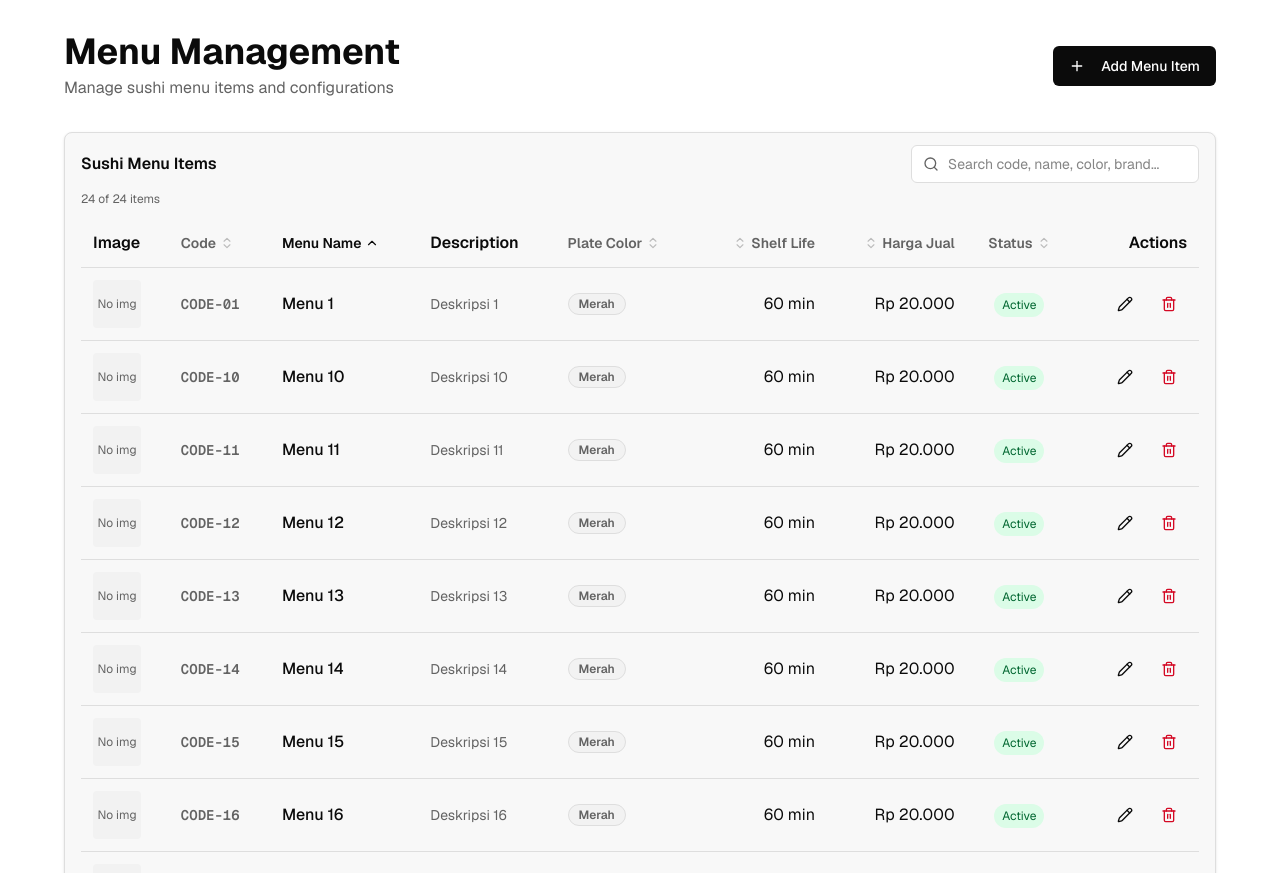
MenusAdmin — search › finds a menu that sits past the first client page
Expected: the text "Menu 20" is not shown
Type "Menu 20" into the field with placeholder "Search code, name, color, brand..." at (1055, 164), box top-left (911, 145), bottom-right (1199, 183)
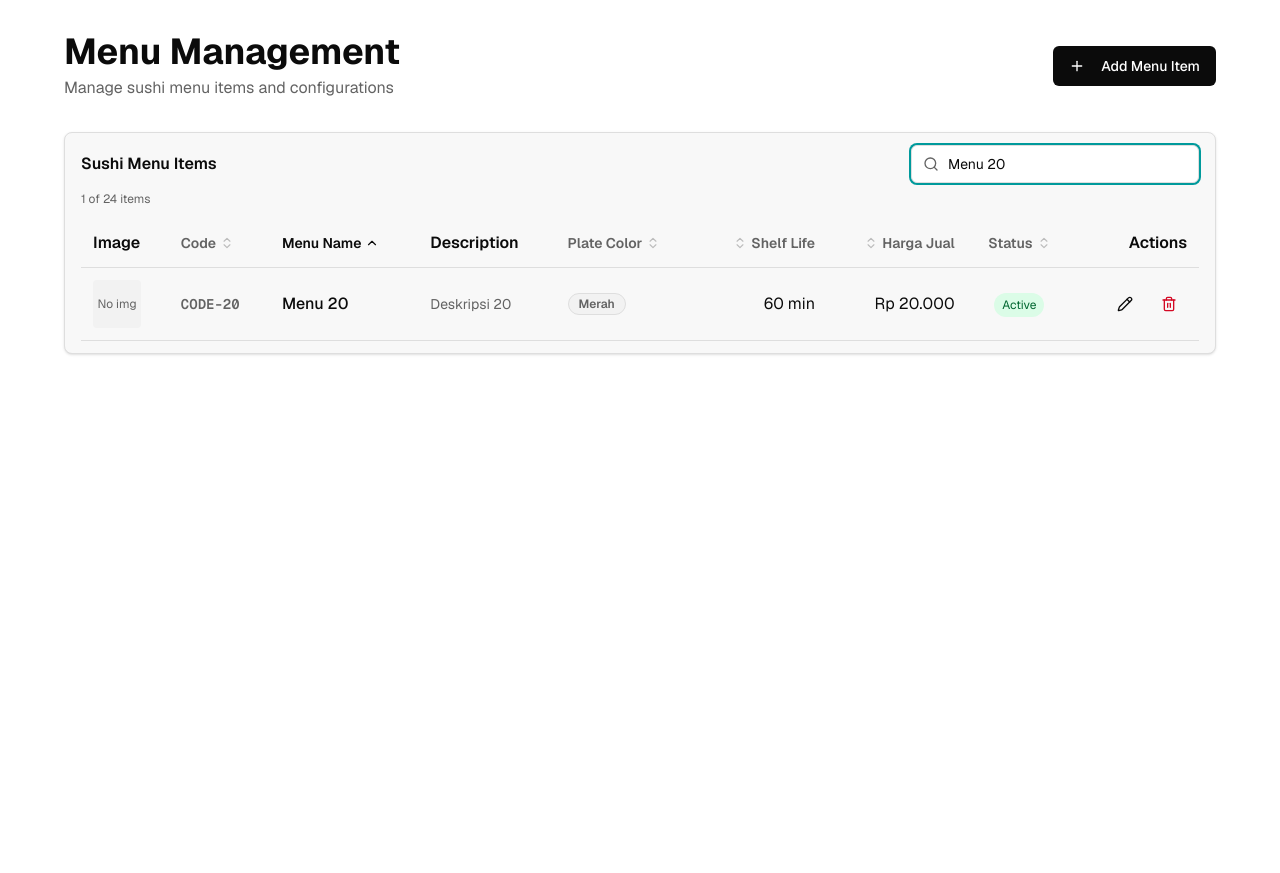
Expected: the text "Menu 20" is shown, top-left (270, 268), bottom-right (418, 340)
Expected: the text "Menu 1" is gone
